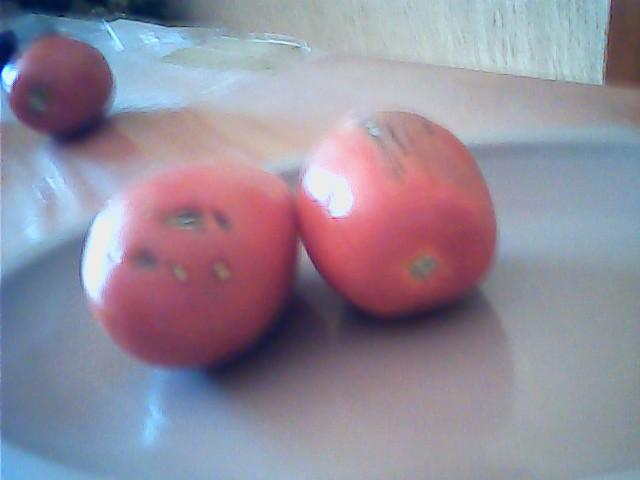defectuoso: (82, 163, 298, 373), (301, 108, 498, 314)
